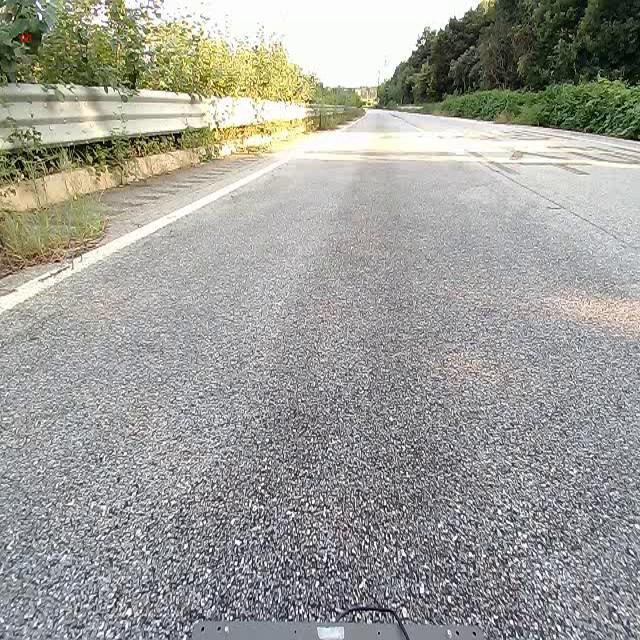Lane: (0, 152, 292, 322), (0, 153, 292, 313)
